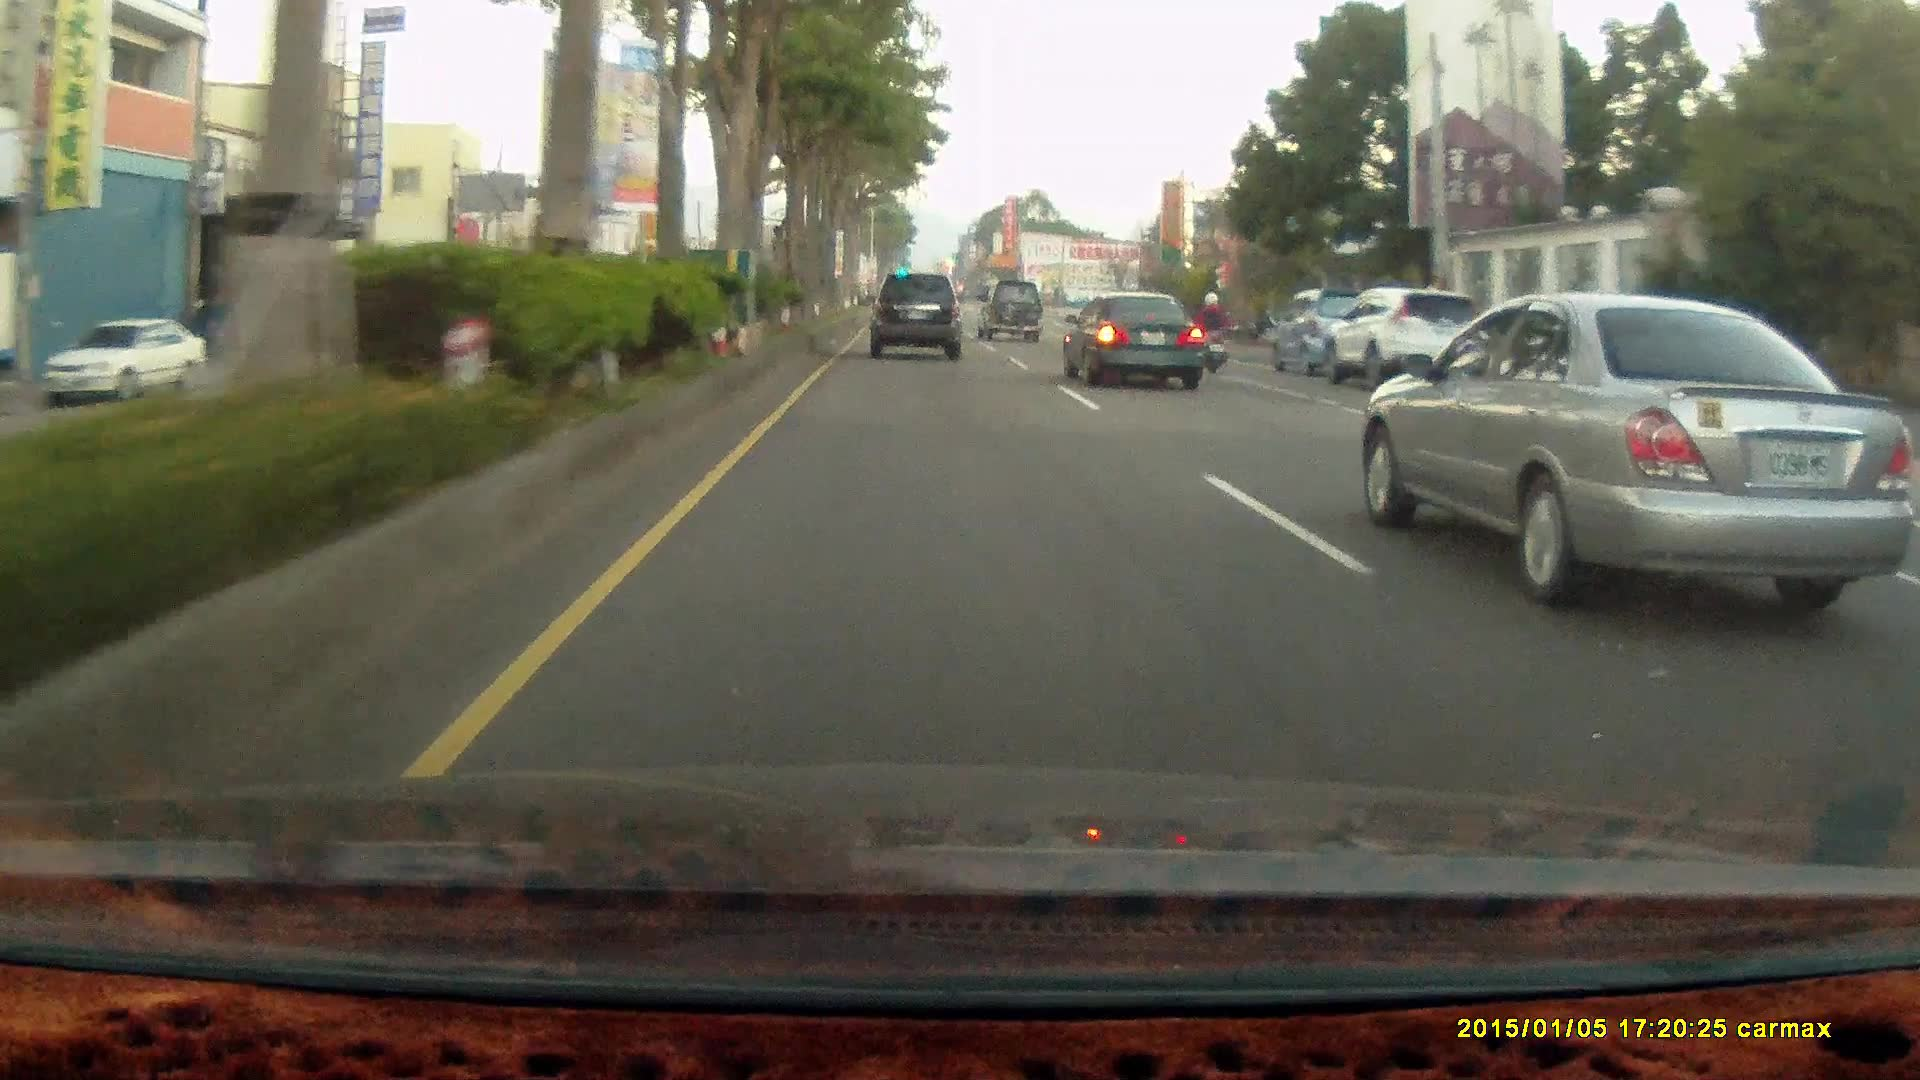rider: (1191, 289, 1230, 373), (1192, 293, 1231, 377)
vehicle: (1361, 299, 1908, 603), (1321, 287, 1491, 389), (36, 319, 209, 406), (41, 319, 210, 407), (1060, 291, 1203, 390), (1063, 295, 1210, 390), (1269, 286, 1389, 375), (866, 271, 967, 366), (866, 272, 963, 359), (975, 279, 1045, 345), (975, 279, 1042, 341)
